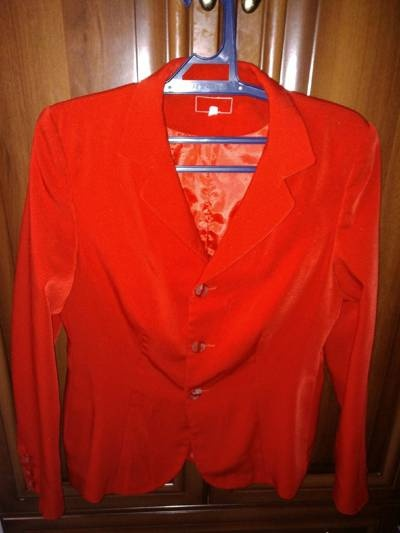Blazer: (15, 65, 394, 522)
